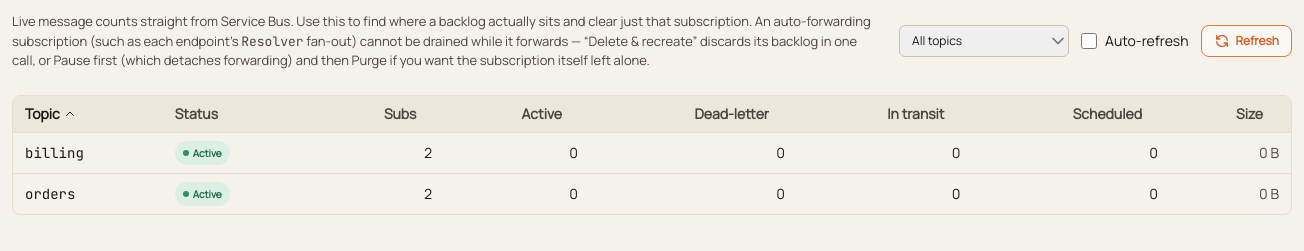
SubscriptionManager › disables purge on an auto-forwarding subscription
The width and height of the screenshot is (1304, 251).
Click the button "orders": (50, 194) left=25, top=184, right=75, bottom=204
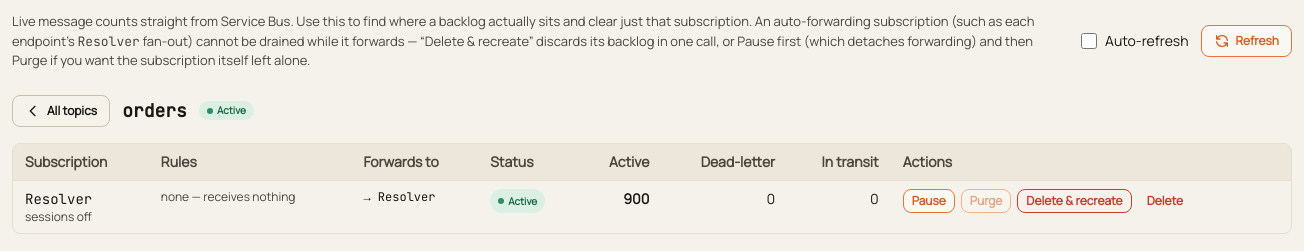
Check: the button "Purge" is disabled, box left=961, top=188, right=1011, bottom=212
